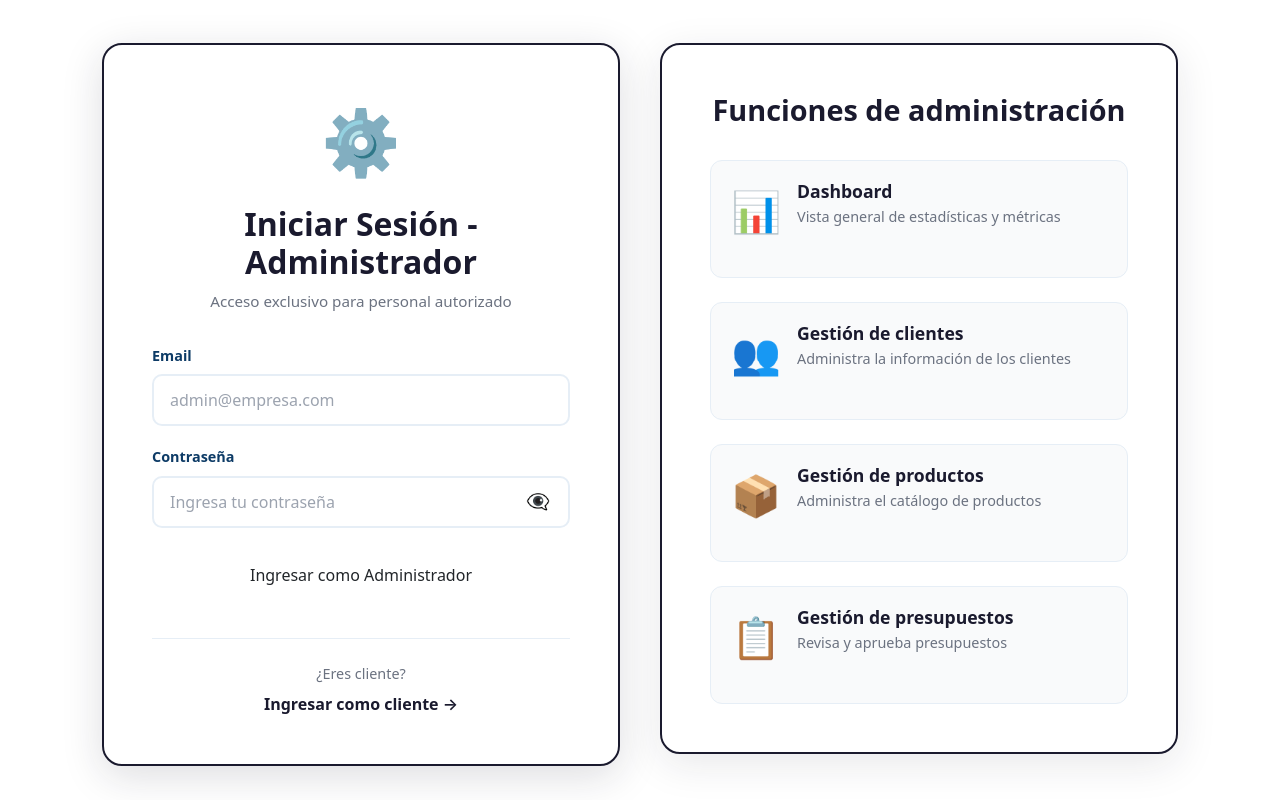
Test case: LoginAdmin - credenciales inválidas › muestra un mensaje de error cuando el login falla
(page scrolled)
Step 1. Type "wrong-admin@example.com" into the field labelled "Email" → (361, 400), box 152,374 -> 570,426
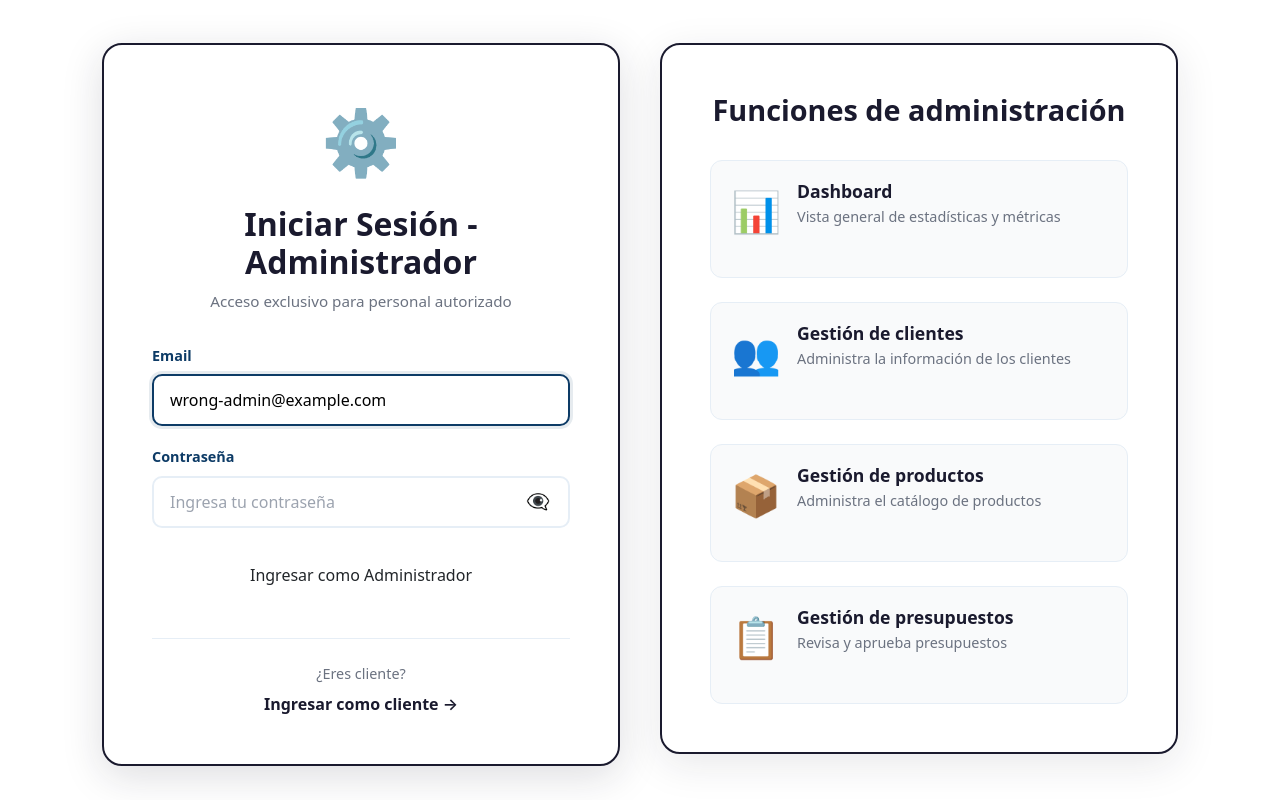
Step 2. Type "wrongpass" into the password field labelled "Contraseña" → (361, 502), box 152,476 -> 570,528
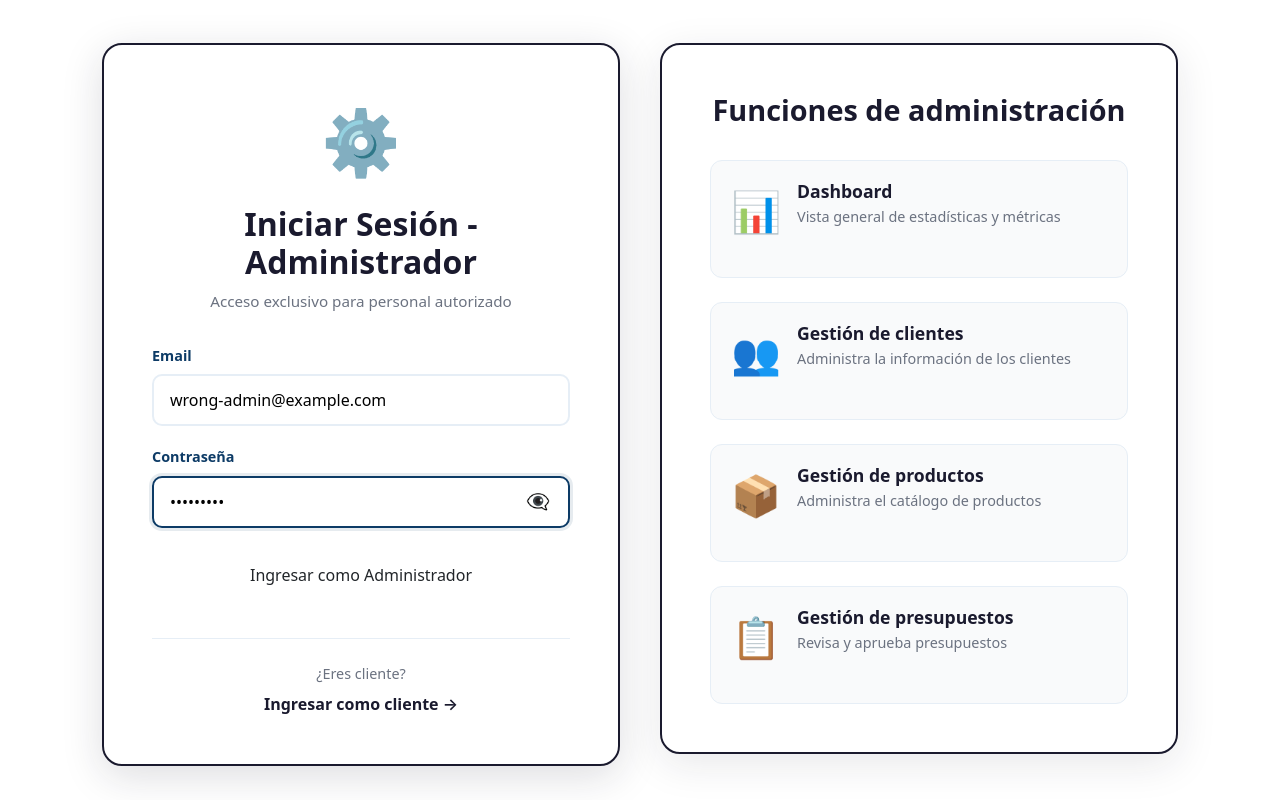
Step 3. Click the button "Ingresar como Administrador" → (361, 575), box 152,556 -> 570,594
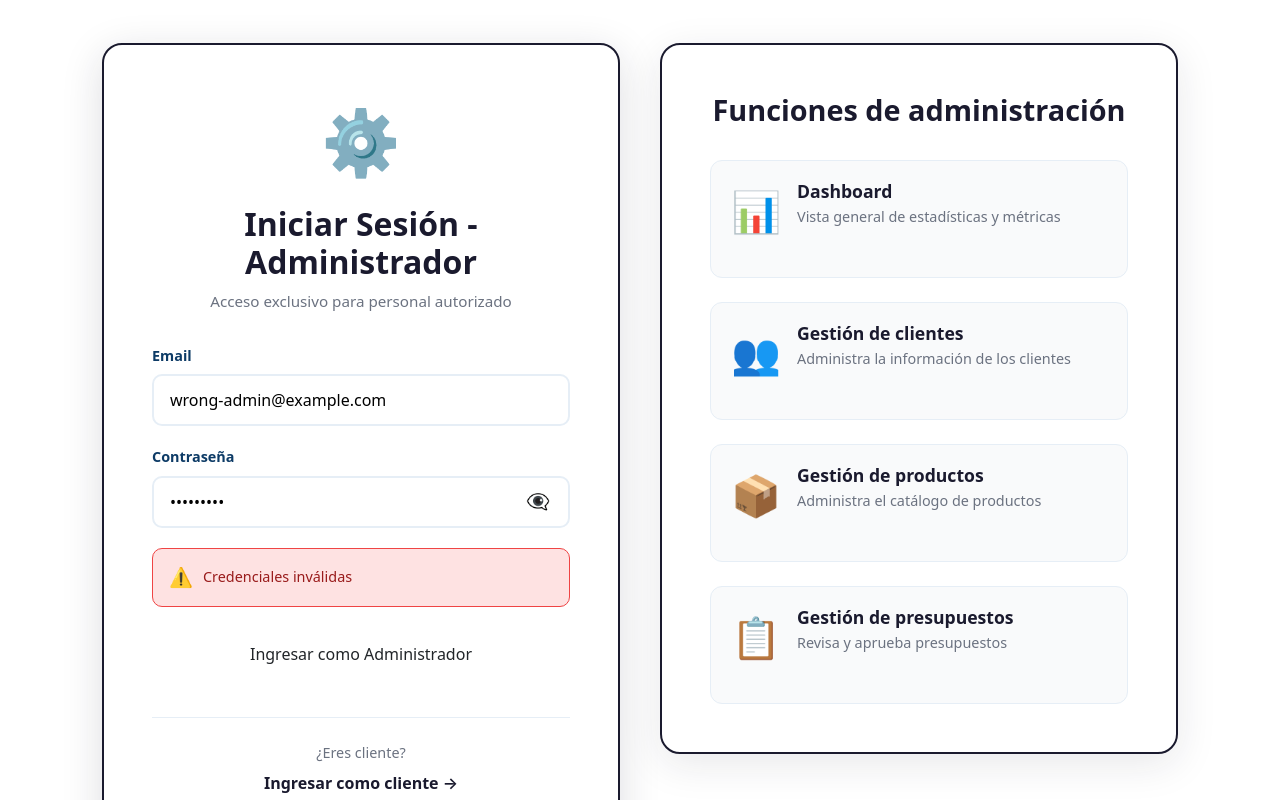
Result: the text "Credenciales inválidas" is shown at 203,567 -> 352,586
